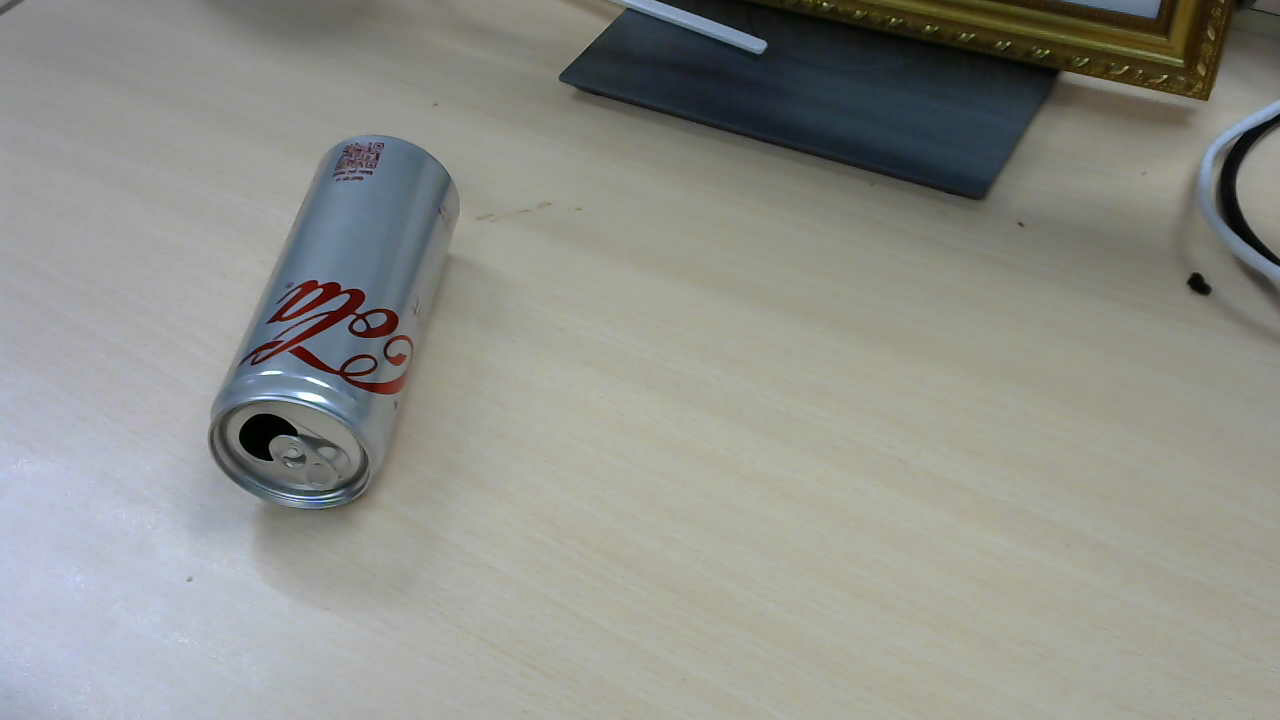Coca_Cola: (211, 137, 469, 517)
